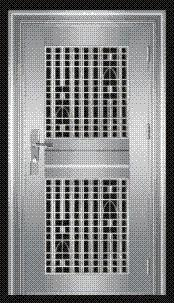door: (7, 12, 165, 293)
